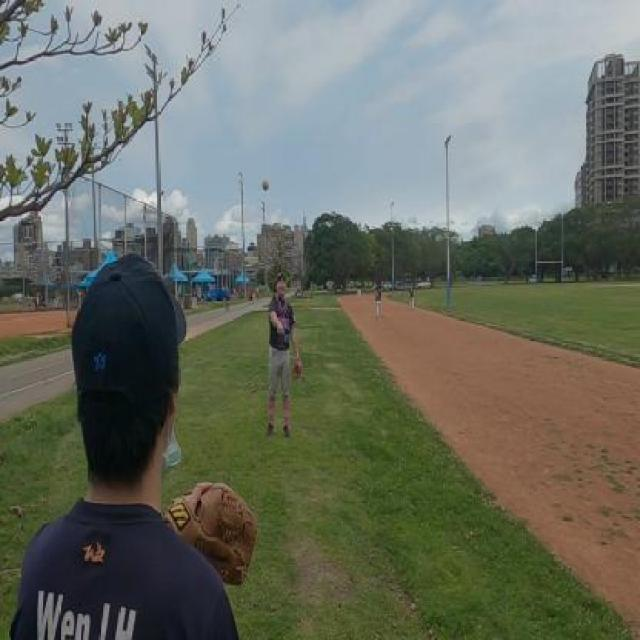baseball: (262, 178, 269, 192)
